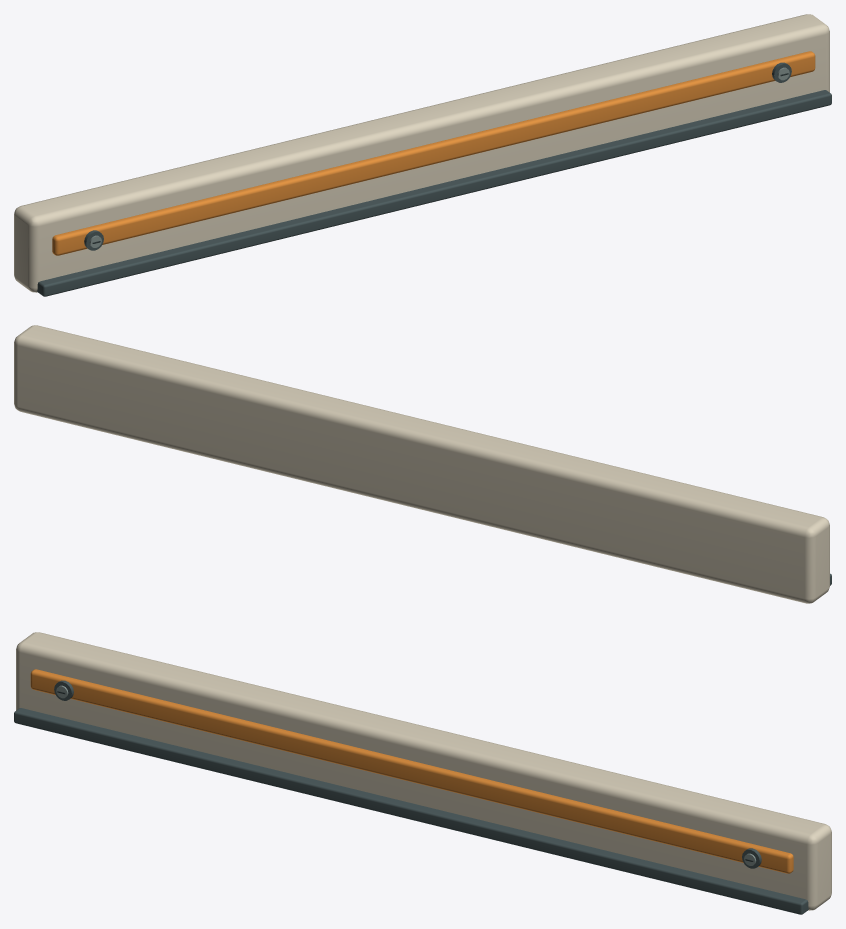
The model's file is deck-edge-2m.glb.
3 views of the same model, one above another, from view 1: azimuth 30°, elevation 25°; view 2: azimuth 150°, elevation 25°; view 3: azimuth 330°, elevation 25° (orthographic).
Visible parts, largest first — view 1: deck-edge-2m / 01 • warm porcelain paint, deck-edge-2m / 03 • ochre enamel, deck-edge-2m / 06 • dark anodized frame; view 2: deck-edge-2m / 01 • warm porcelain paint; view 3: deck-edge-2m / 01 • warm porcelain paint, deck-edge-2m / 03 • ochre enamel, deck-edge-2m / 06 • dark anodized frame.
Part boxes in pixels (left/top/right/bottom): deck-edge-2m / 01 • warm porcelain paint: left=14, top=14, right=829, bottom=292; deck-edge-2m / 03 • ochre enamel: left=52, top=51, right=815, bottom=255; deck-edge-2m / 06 • dark anodized frame: left=37, top=62, right=831, bottom=296; deck-edge-2m / 01 • warm porcelain paint: left=14, top=325, right=829, bottom=603; deck-edge-2m / 01 • warm porcelain paint: left=16, top=632, right=831, bottom=910; deck-edge-2m / 03 • ochre enamel: left=30, top=669, right=793, bottom=873; deck-edge-2m / 06 • dark anodized frame: left=14, top=680, right=808, bottom=914.
Bounding box in the file's own units: 1.98 × 0.18 × 0.126.
